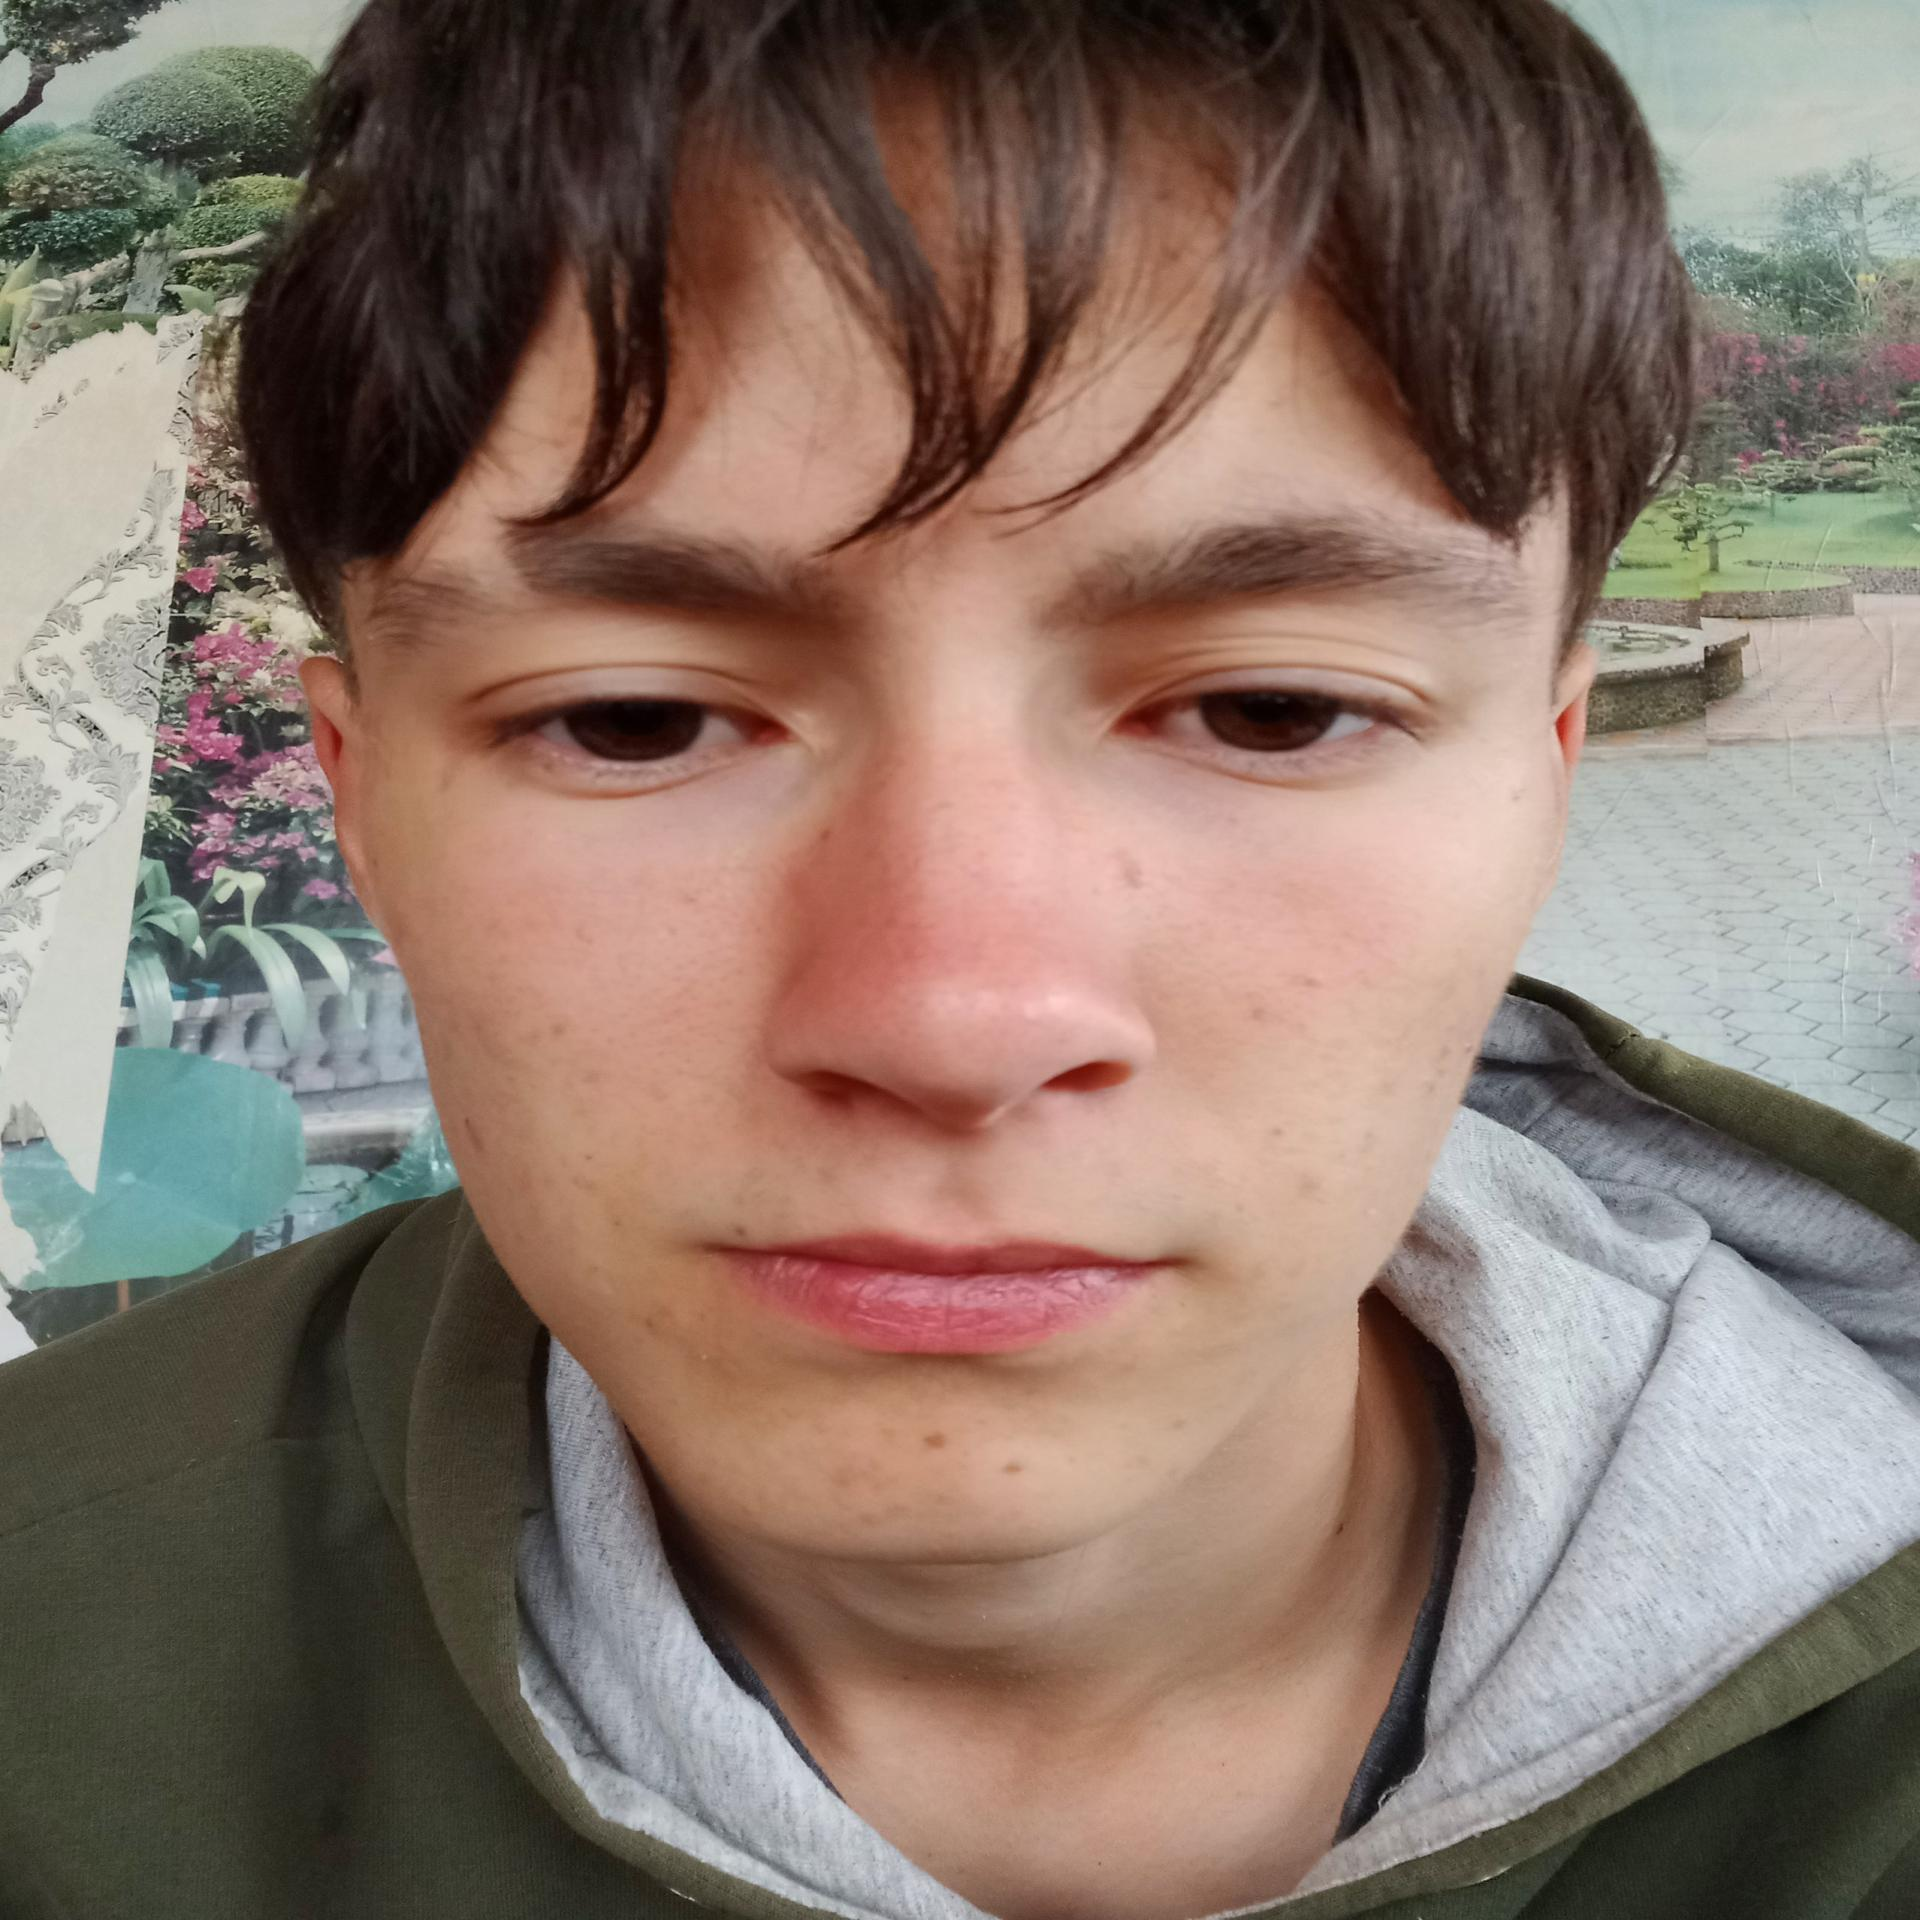Acne: (448, 1109, 501, 1166), (1115, 840, 1148, 898)
Blackhead: (505, 1015, 612, 1092), (1234, 969, 1345, 1025), (1261, 1120, 1329, 1204), (1349, 1065, 1401, 1157), (1410, 1037, 1456, 1104)
